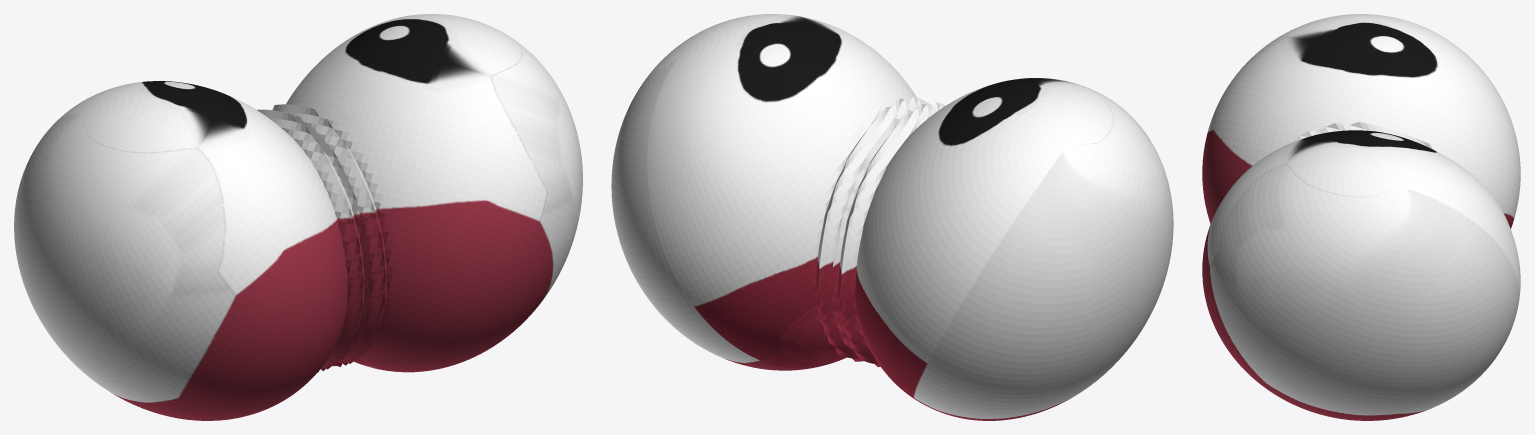
The model's file is eye.obj.
The picture shows the model from 3 angles, left to right: view 1: azimuth 30°, elevation 25°; view 2: azimuth 150°, elevation 25°; view 3: azimuth 270°, elevation 25°; orthographic projection. The views are drawn at different scales.
Visible parts, largest first — view 1: Group13101; view 2: Group13101; view 3: Group13101.
Boxes of the visible parts, x1=… form: Group13101: x1=14, y1=14, x2=582, y2=420; Group13101: x1=611, y1=14, x2=1173, y2=420; Group13101: x1=1202, y1=14, x2=1520, y2=420.
Bounding box in the file's own units: 1.69 × 0.9997 × 1.03.
